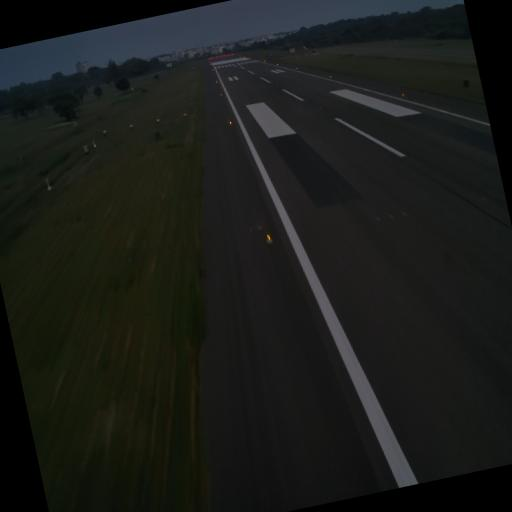off: (479, 190, 488, 204), (400, 208, 409, 221), (374, 213, 382, 225), (388, 209, 394, 222), (318, 106, 322, 112), (303, 98, 307, 102)
on: (263, 230, 274, 246), (398, 90, 406, 98), (226, 118, 233, 127)
